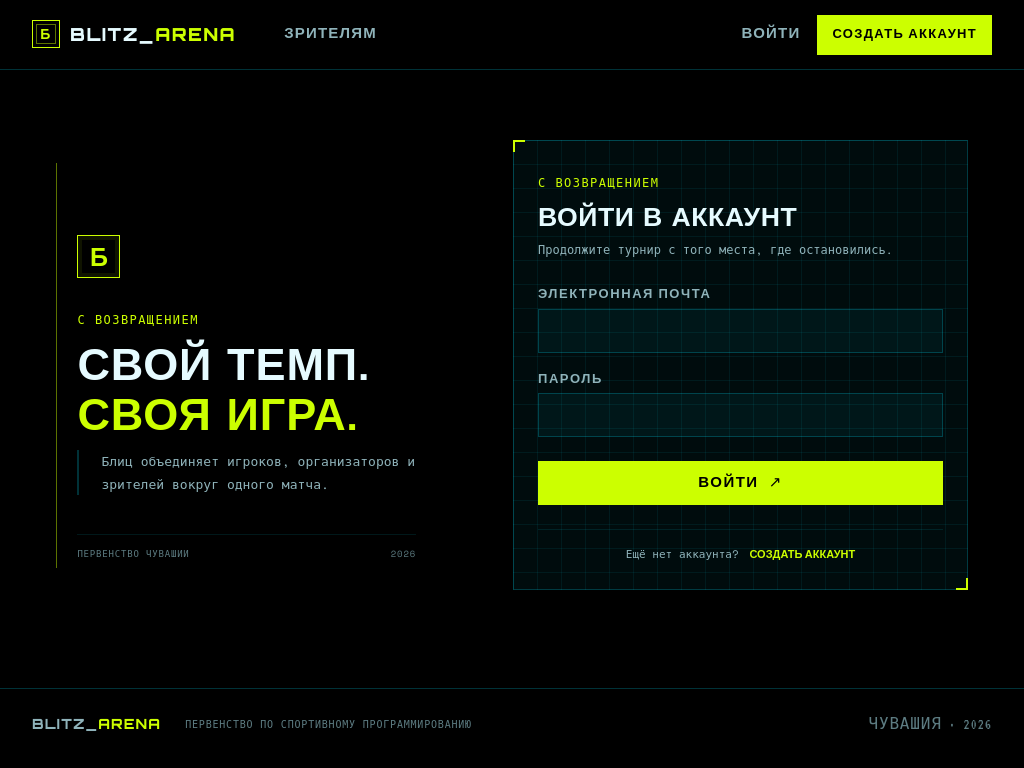
Test case: public and private routes › keeps a protected match destination when switching from login to registration
The image size is (1024, 768).
Expected: the heading "Войти в аккаунт" is shown, [538, 199, 797, 232]
Click the link "Создать аккаунт" next to "Ещё нет аккаунта?": [802, 556] box [749, 548, 855, 562]
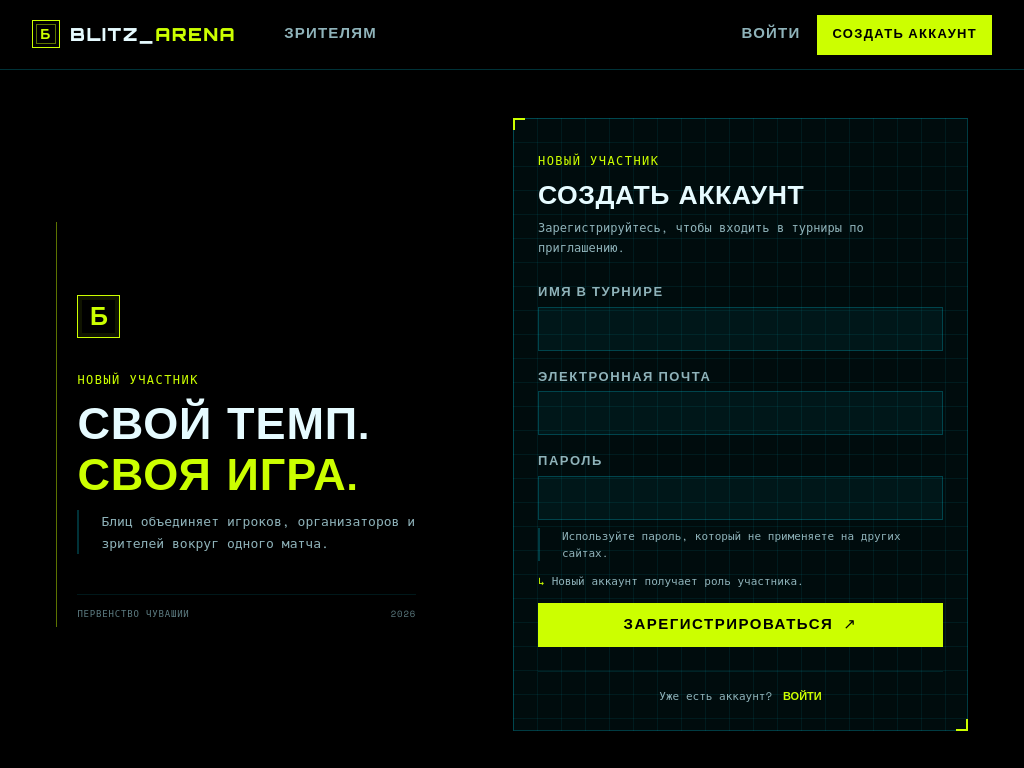
Expected: the heading "Создать аккаунт" is shown, [538, 177, 804, 210]
